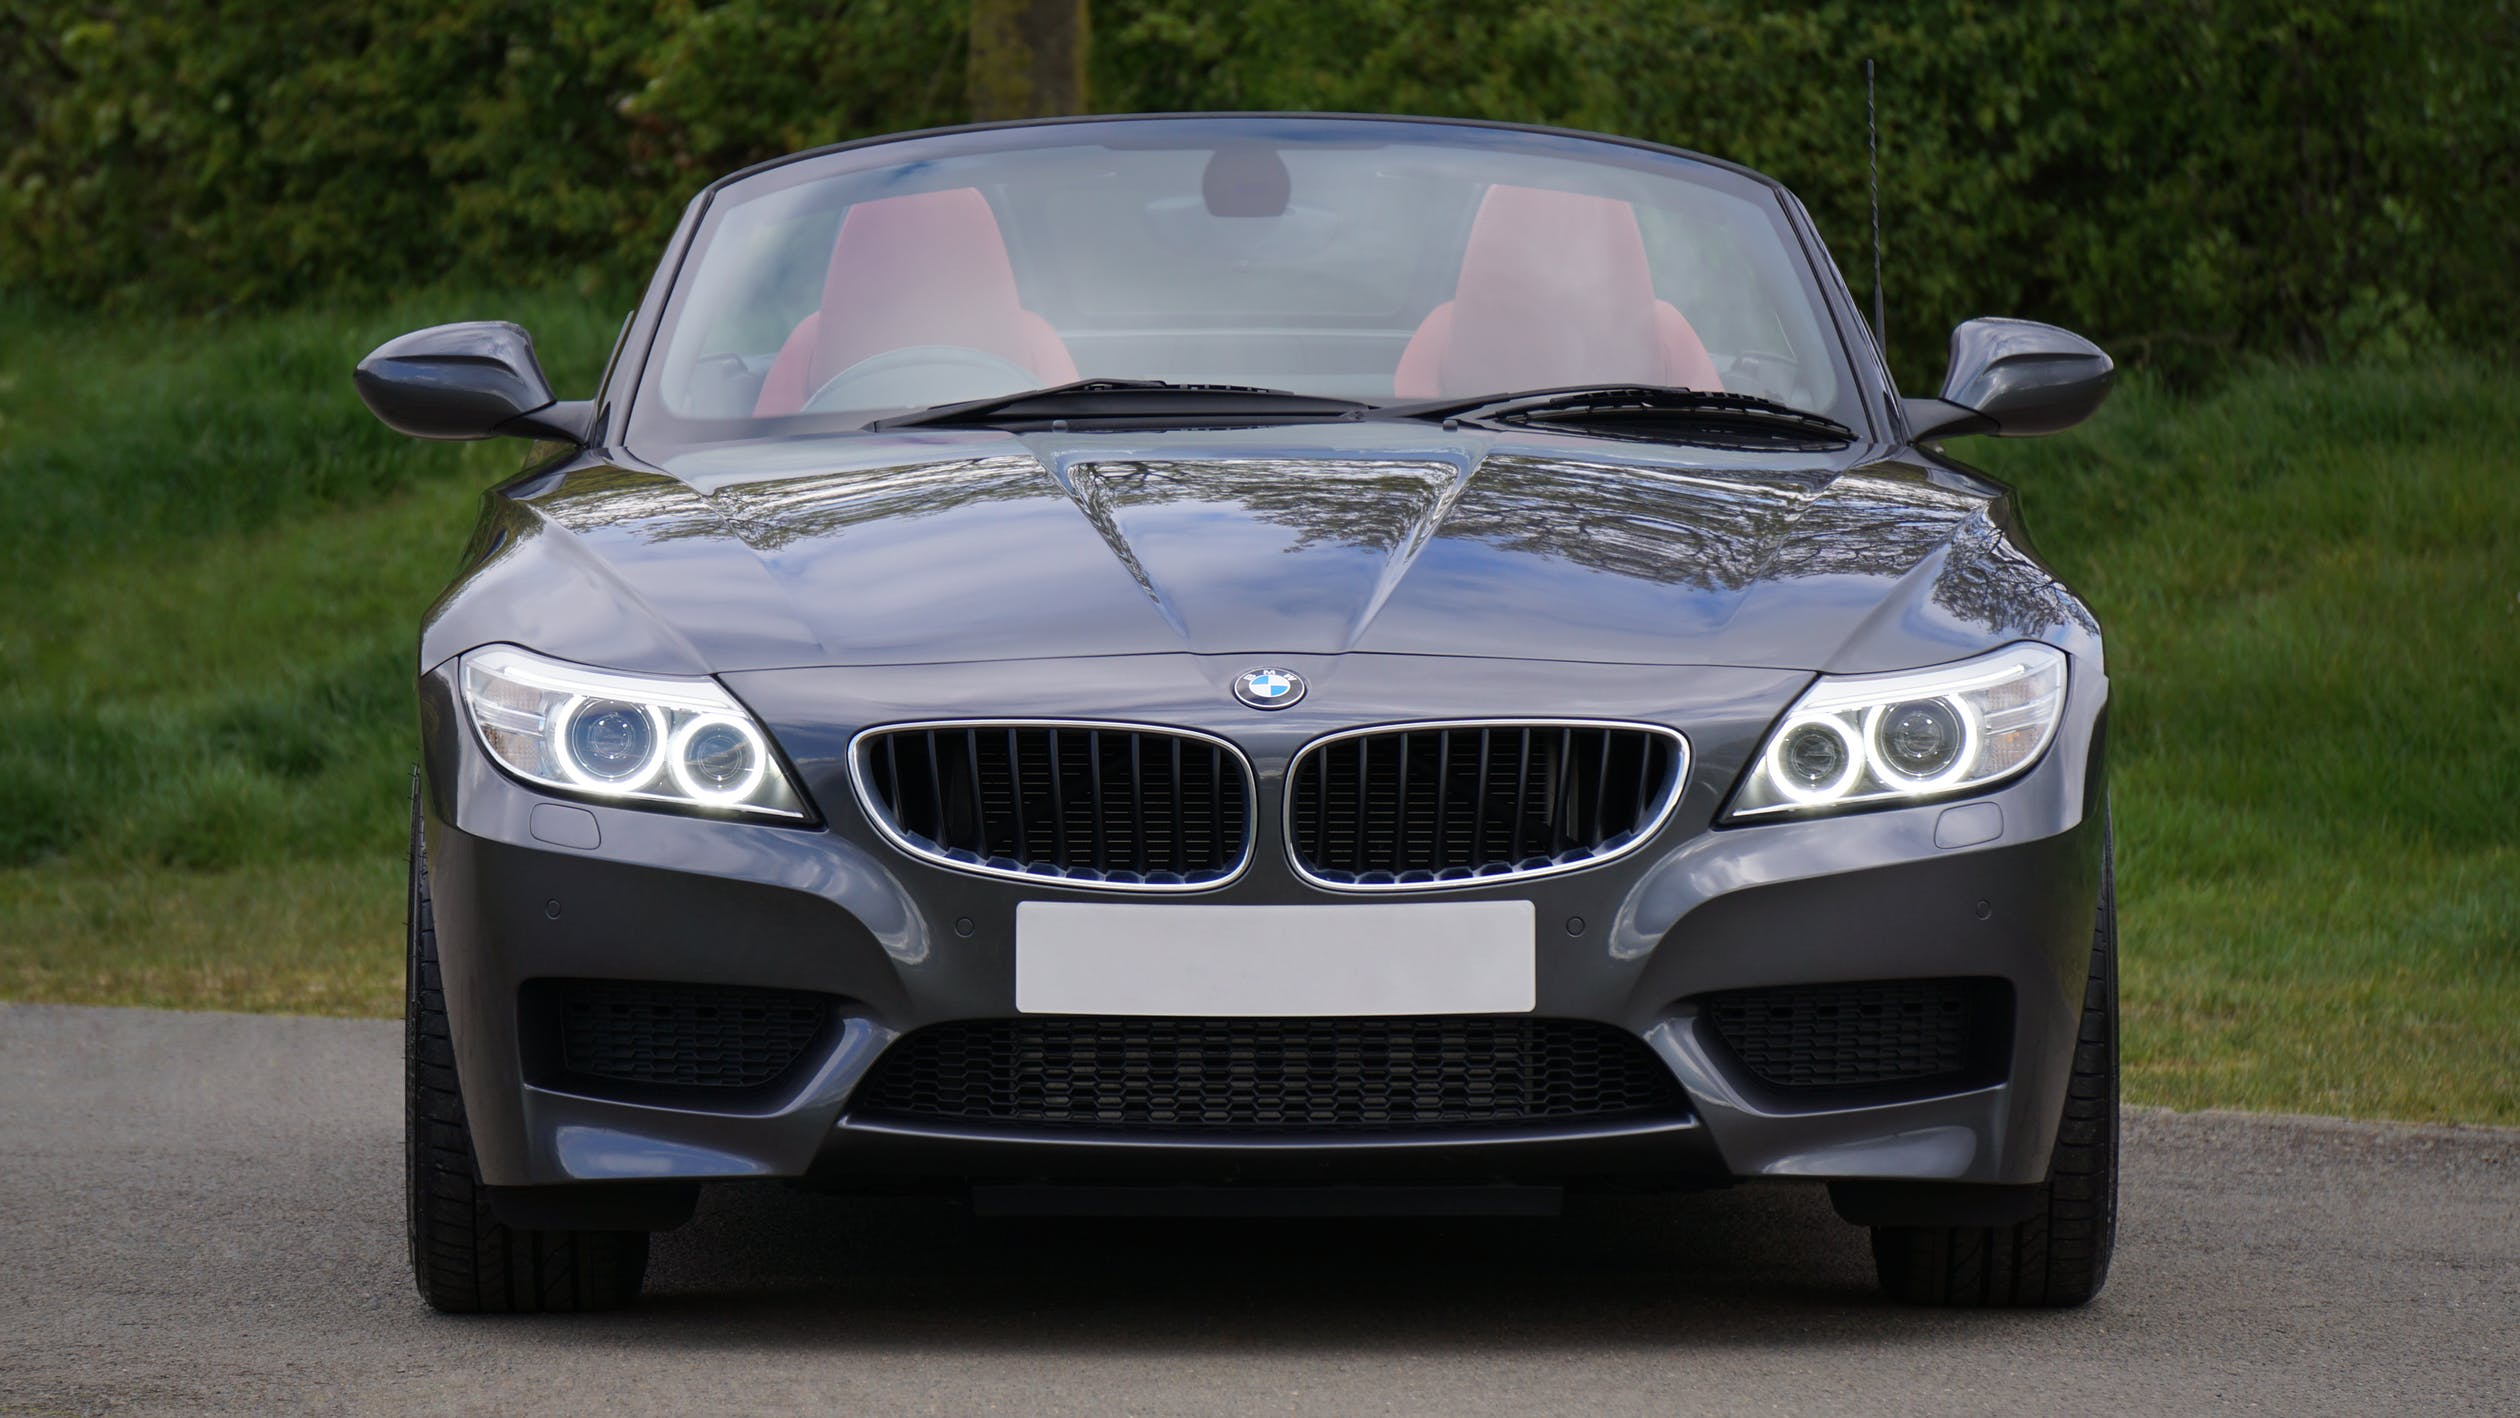bmw: (325, 92, 2170, 1347)
